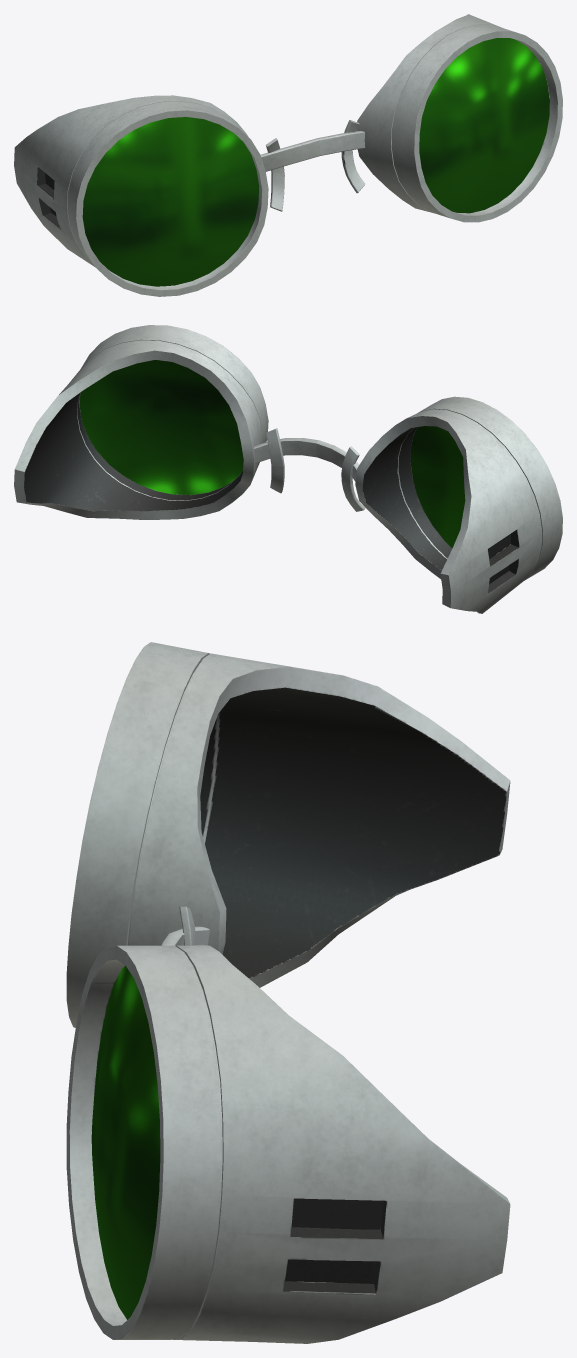
The model's file is jujutsu_kaisen__kento_nanamis_glasses.glb.
3 views of the same model, one above another, from view 1: azimuth 30°, elevation 25°; view 2: azimuth 150°, elevation 25°; view 3: azimuth 270°, elevation 25° (orthographic). The views are drawn at different scales.
Visible parts, largest first — view 1: NANAMI_GLASSESS_0; view 2: NANAMI_GLASSESS_0; view 3: NANAMI_GLASSESS_0.
Part boxes in pixels (left/top/right/bottom): NANAMI_GLASSESS_0: left=14, top=14, right=562, bottom=296; NANAMI_GLASSESS_0: left=14, top=325, right=562, bottom=613; NANAMI_GLASSESS_0: left=66, top=642, right=510, bottom=1343.
Size of the model in its own units: 6.09 by 2.17 by 2.41.
Materials: 1 (1 with a texture image).
